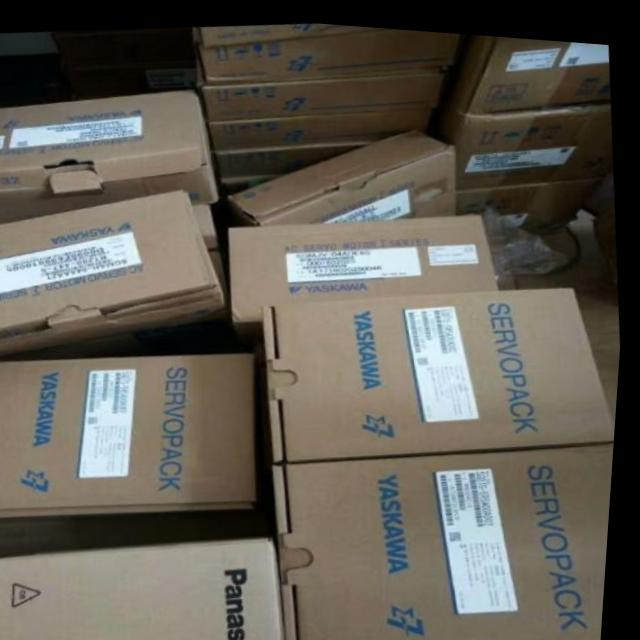box: (278, 434, 619, 640), (265, 278, 620, 457), (0, 350, 264, 517), (0, 187, 233, 356), (231, 206, 502, 329), (0, 533, 293, 640), (0, 86, 220, 224), (230, 122, 460, 222), (431, 91, 612, 180), (198, 55, 442, 117), (200, 23, 461, 78), (445, 27, 610, 106), (213, 100, 431, 146), (461, 170, 607, 215), (218, 137, 377, 174), (192, 18, 386, 42), (223, 168, 291, 188), (196, 200, 223, 245), (213, 246, 231, 290)
